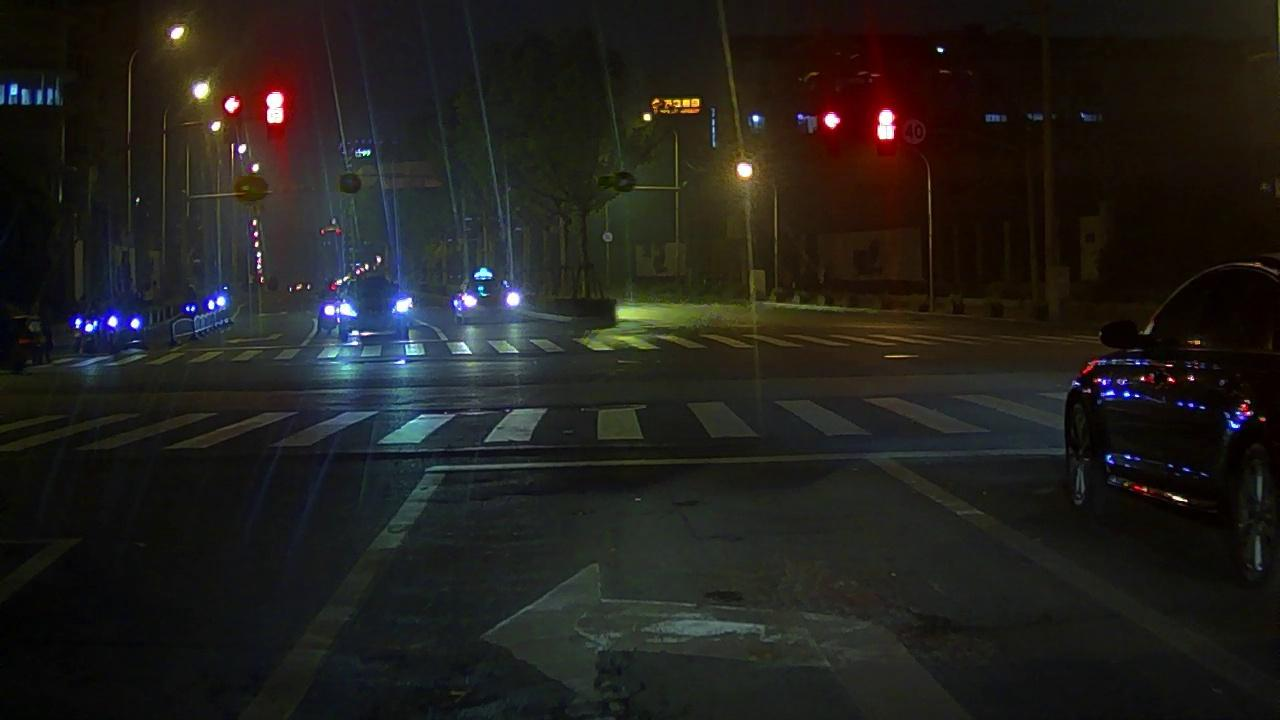traffic_light: (266, 92, 286, 140), (876, 108, 895, 139), (822, 113, 841, 130), (222, 97, 238, 112)
